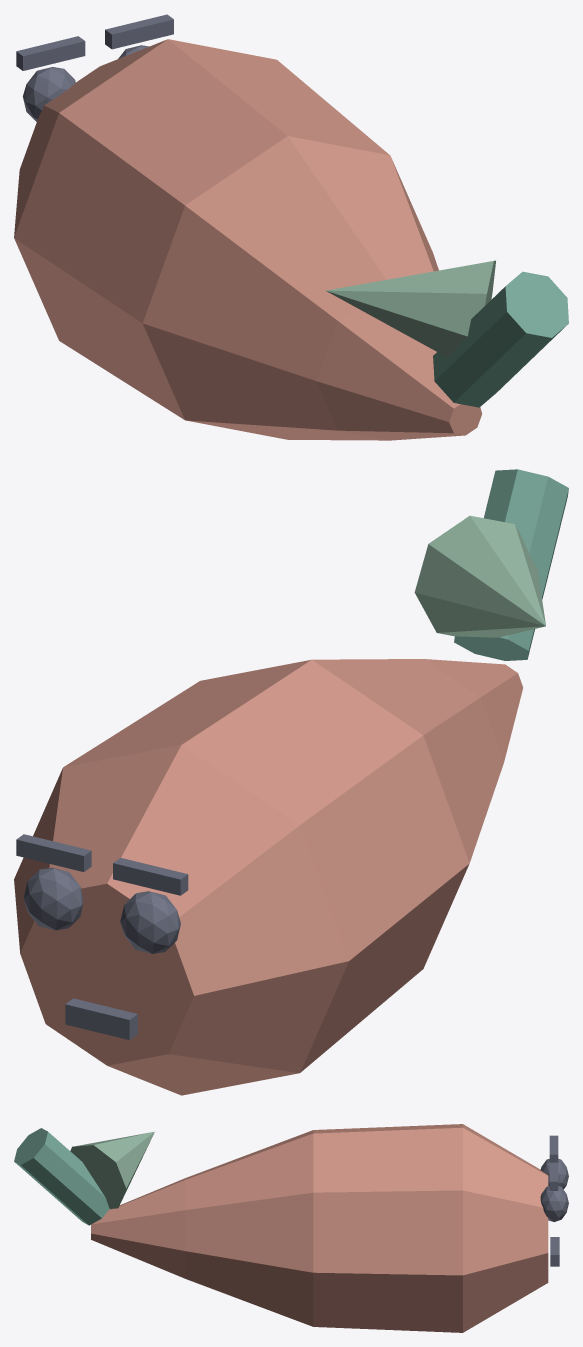
Rendered from obstacle_spicy_chaser.glb.
3 renders of one model, top to bottom at view 1: azimuth 30°, elevation 25°; view 2: azimuth 150°, elevation 25°; view 3: azimuth 270°, elevation 25°, orthographic. The views are drawn at different scales.
Visible parts, largest first — view 1: 000_chili_body, 001_stem, 002_leaf_1, 003_eye_-1, 004_eyebrow_-1, 006_eyebrow_1; view 2: 000_chili_body, 002_leaf_1, 001_stem, 003_eye_-1, 005_eye_1, 007_mouth, 006_eyebrow_1, 004_eyebrow_-1; view 3: 000_chili_body, 001_stem, 002_leaf_1, 005_eye_1, 003_eye_-1, 007_mouth, 006_eyebrow_1, 004_eyebrow_-1.
Part boxes in pixels (x1,y1,x2,y2): 000_chili_body: (14, 39, 481, 440); 001_stem: (433, 271, 568, 407); 002_leaf_1: (326, 260, 495, 357); 003_eye_-1: (23, 67, 75, 121); 004_eyebrow_-1: (16, 36, 85, 70); 006_eyebrow_1: (105, 14, 173, 49); 000_chili_body: (14, 659, 523, 1095); 002_leaf_1: (414, 515, 545, 637); 001_stem: (454, 469, 568, 660); 003_eye_-1: (120, 891, 180, 953); 005_eye_1: (23, 867, 83, 930); 007_mouth: (65, 998, 137, 1040); 006_eyebrow_1: (16, 834, 91, 871); 004_eyebrow_-1: (113, 857, 188, 895); 000_chili_body: (91, 1124, 548, 1332); 001_stem: (14, 1128, 109, 1225); 002_leaf_1: (70, 1131, 154, 1208); 005_eye_1: (540, 1186, 568, 1221); 003_eye_-1: (540, 1158, 568, 1189); 007_mouth: (550, 1237, 559, 1266); 006_eyebrow_1: (549, 1162, 558, 1190); 004_eyebrow_-1: (549, 1135, 558, 1162).
Bounding box in the file's own units: 0.52 × 0.5278 × 1.3.
